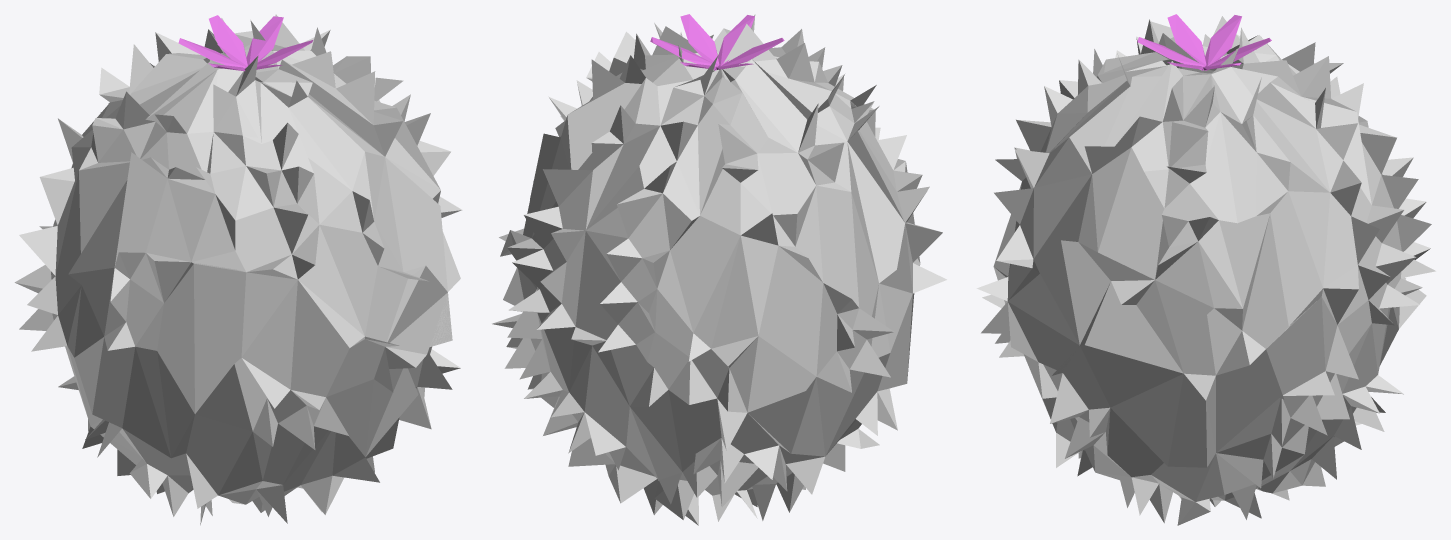
The model's file is SmalLCactus.glb.
The picture shows the model from 3 angles, left to right: view 1: azimuth 30°, elevation 25°; view 2: azimuth 150°, elevation 25°; view 3: azimuth 270°, elevation 25°; orthographic projection.
Visible parts, largest first — view 1: Sphere, Cube; view 2: Sphere, Cube; view 3: Sphere, Cube.
Part boxes in pixels (<box>): Sphere: <box>14,14,461,525</box>; Cube: <box>178,15,313,71</box>; Sphere: <box>492,14,946,525</box>; Cube: <box>650,14,784,70</box>; Sphere: <box>976,16,1435,525</box>; Cube: <box>1137,14,1271,70</box>.
Bounding box in the file's own units: 3.01 × 3.39 × 3.04.
